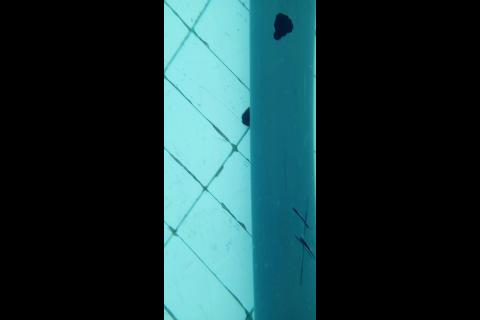kebocoran: (272, 10, 294, 42)
keretakan: (292, 204, 314, 286)
